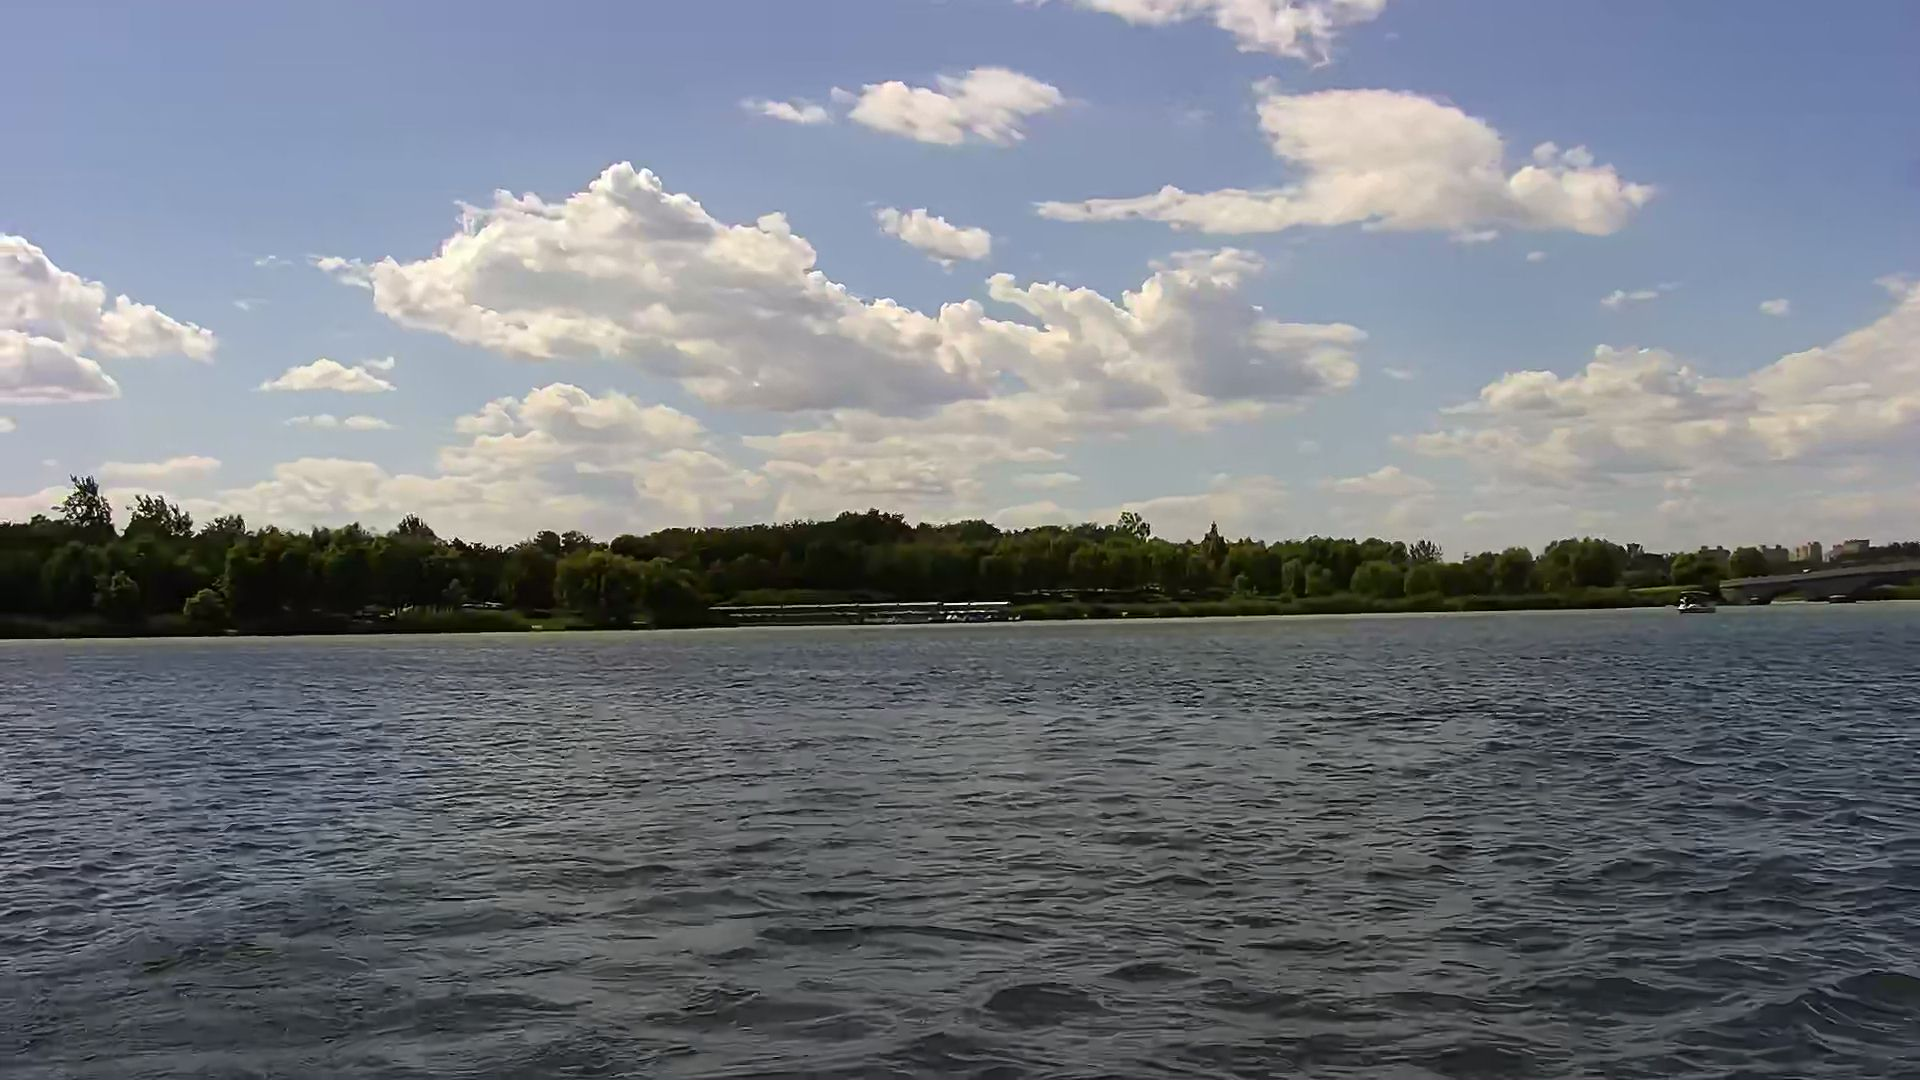boat: (1673, 596, 1716, 621)
bridge: (709, 601, 1005, 629), (1721, 560, 1920, 597)
